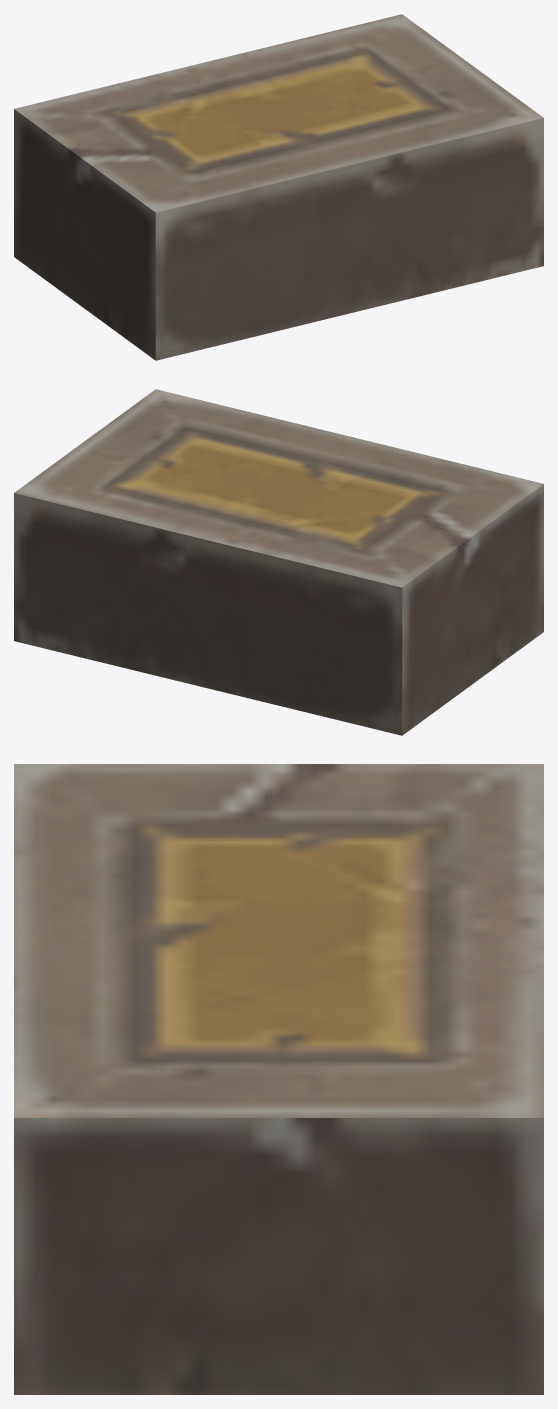
The model's file is zw_zhuantou.FBX.
The picture shows the model from 3 angles, top to bottom: view 1: azimuth 30°, elevation 25°; view 2: azimuth 150°, elevation 25°; view 3: azimuth 270°, elevation 25°; orthographic projection. The views are drawn at different scales.
Visible parts, largest first — view 1: jbfb_zw2; view 2: jbfb_zw2; view 3: jbfb_zw2.
Boxes of the visible parts, x1=… form: jbfb_zw2: x1=14, y1=14, x2=543, y2=360; jbfb_zw2: x1=14, y1=389, x2=543, y2=735; jbfb_zw2: x1=14, y1=764, x2=543, y2=1394.
Bounding box in the file's own units: 57.32 × 20.9 × 36.27.
